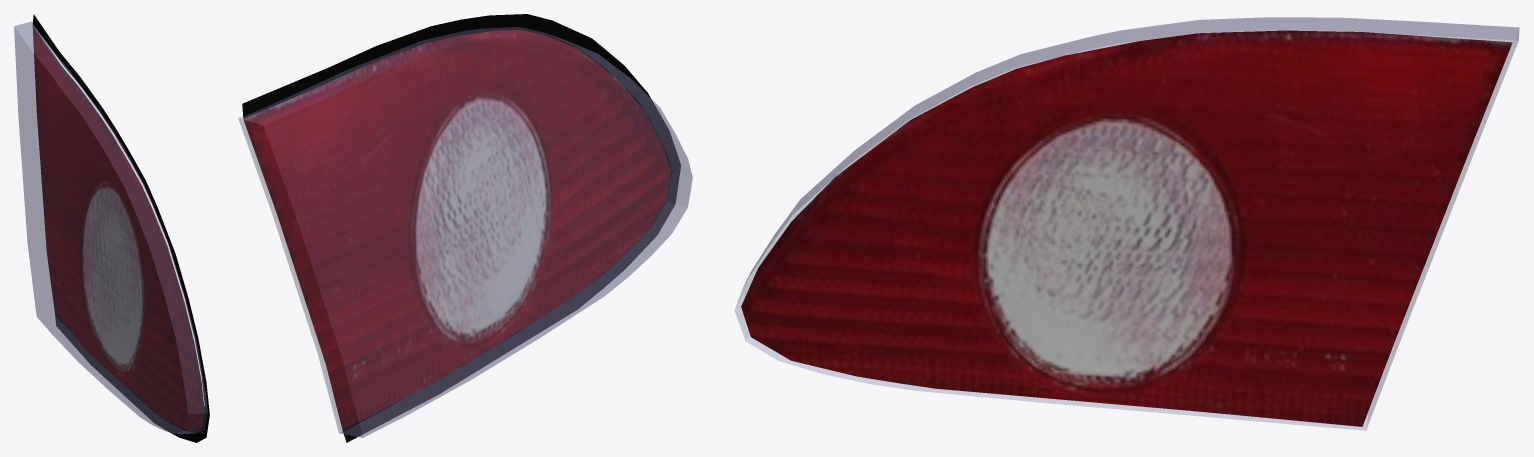
The picture shows the model from 3 angles, left to right: view 1: azimuth 30°, elevation 25°; view 2: azimuth 150°, elevation 25°; view 3: azimuth 270°, elevation 25°; orthographic projection. The views are drawn at different scales.
Visible parts, largest first — view 1: Y210_541D_L_1_DTaSI_Y210_541D_L, Y210_541D_L_Y210_541D_L_2_N, Y210_541D_L_Y210_541D_L_3_D; view 2: Y210_541D_L_1_DTaSI_Y210_541D_L, Y210_541D_L_Y210_541D_L_2_N, Y210_541D_L_Y210_541D_L_3_D; view 3: Y210_541D_L_Y210_541D_L_2_N, Y210_541D_L_1_DTaSI_Y210_541D_L.
Part boxes in pixels (x1=…): Y210_541D_L_1_DTaSI_Y210_541D_L: x1=14, y1=21, x2=207, y2=433; Y210_541D_L_Y210_541D_L_2_N: x1=32, y1=25, x2=204, y2=431; Y210_541D_L_Y210_541D_L_3_D: x1=32, y1=14, x2=209, y2=442; Y210_541D_L_1_DTaSI_Y210_541D_L: x1=238, y1=27, x2=692, y2=437; Y210_541D_L_Y210_541D_L_2_N: x1=243, y1=30, x2=671, y2=429; Y210_541D_L_Y210_541D_L_3_D: x1=242, y1=14, x2=680, y2=442; Y210_541D_L_Y210_541D_L_2_N: x1=741, y1=30, x2=1512, y2=426; Y210_541D_L_1_DTaSI_Y210_541D_L: x1=734, y1=17, x2=1519, y2=430.
Bounding box in the file's own units: 6.34 × 19.52 × 32.25.
